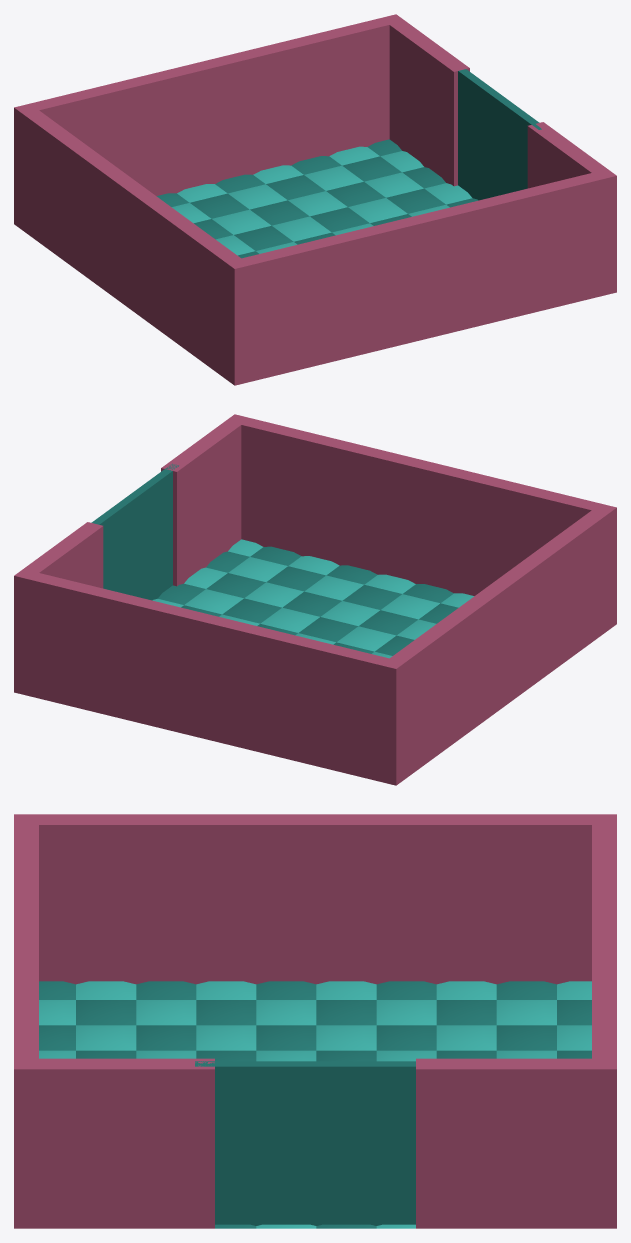
The model's file is TestRoomBase.fbx.
3 renders of one model, top to bottom at view 1: azimuth 30°, elevation 25°; view 2: azimuth 150°, elevation 25°; view 3: azimuth 270°, elevation 25°, orthographic. The views are drawn at different scales.
Visible parts, largest first — view 1: polySurface100, polySurface202, polySurface101, polySurface197, polySurface204, polySurface94, polySurface203; view 2: polySurface202, polySurface100, polySurface101, polySurface197, polySurface203, polySurface94, polySurface204; view 3: polySurface101, polySurface197, polySurface94, polySurface203, polySurface204, polySurface100, polySurface202.
Boxes of the visible parts, bbox=[...] form: polySurface100: bbox=[225, 169, 616, 385]; polySurface202: bbox=[14, 14, 404, 230]; polySurface101: bbox=[14, 104, 250, 384]; polySurface197: bbox=[156, 139, 478, 258]; polySurface204: bbox=[381, 14, 469, 186]; polySurface94: bbox=[458, 69, 541, 200]; polySurface203: bbox=[527, 122, 616, 296]; polySurface202: bbox=[14, 569, 404, 785]; polySurface100: bbox=[226, 414, 616, 625]; polySurface101: bbox=[380, 507, 616, 785]; polySurface197: bbox=[152, 539, 474, 658]; polySurface203: bbox=[161, 414, 249, 586]; polySurface94: bbox=[91, 463, 178, 600]; polySurface204: bbox=[14, 522, 103, 696]; polySurface101: bbox=[14, 814, 616, 984]; polySurface197: bbox=[39, 981, 591, 1228]; polySurface94: bbox=[195, 1061, 415, 1225]; polySurface203: bbox=[14, 1058, 214, 1228]; polySurface204: bbox=[416, 1058, 616, 1228]; polySurface100: bbox=[14, 814, 38, 1228]; polySurface202: bbox=[592, 814, 616, 1228].
Bounding box in the file's own units: 24 × 7 × 24.
